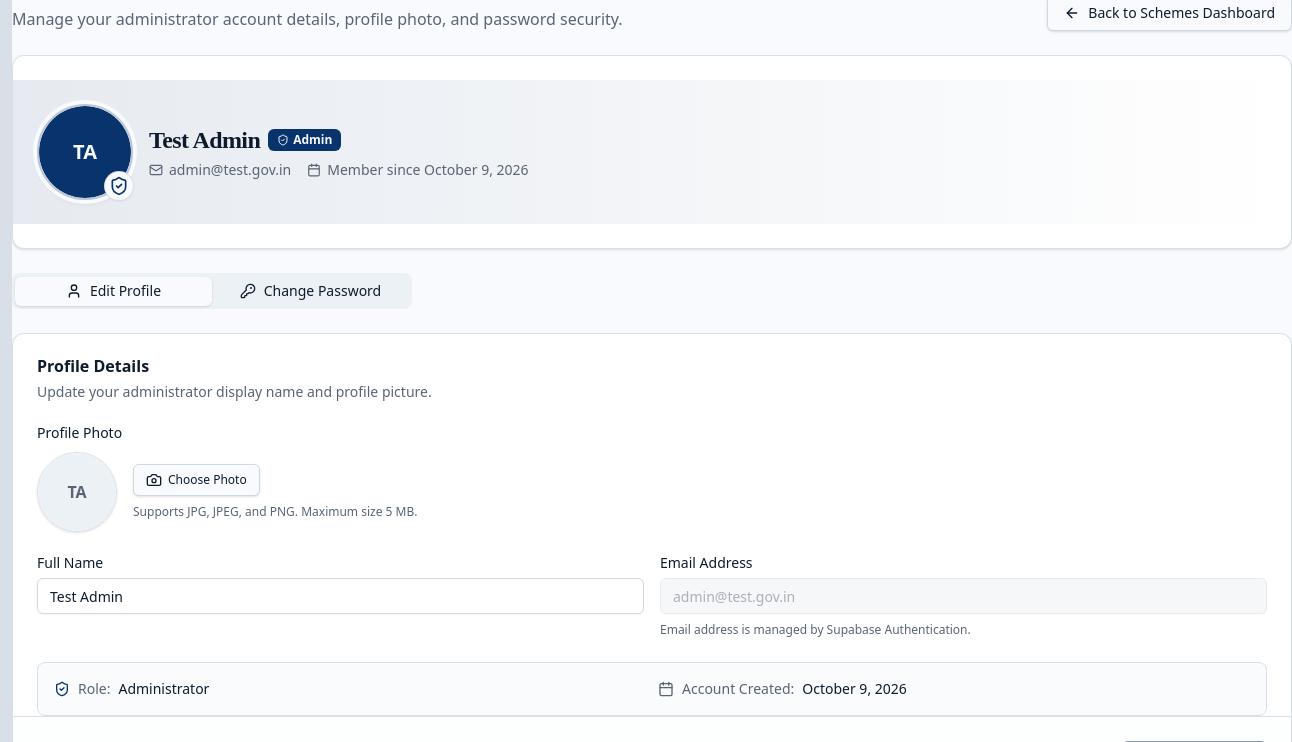
Admin Profile - UI & Authorization › allows admin to edit their full name and save changes
Later steps or results of the test are not shown.
Replace the text in the field labelled "Full Name" with "Super Administrator" at (340, 596), box 37,578 -> 644,614
(page scrolled)
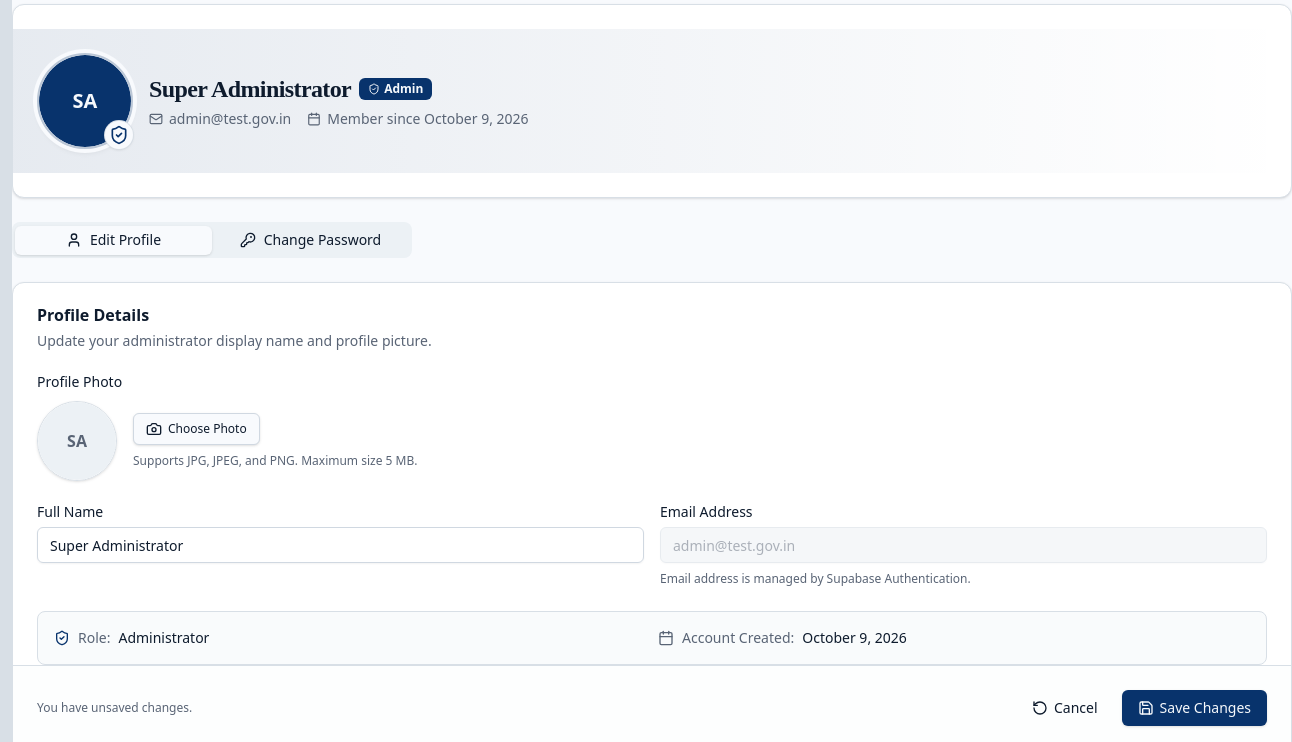
Check: the text "You have unsaved changes." is shown, box 37,700 -> 192,716
Check: the button "Save Changes" is enabled, box 1122,690 -> 1267,726
